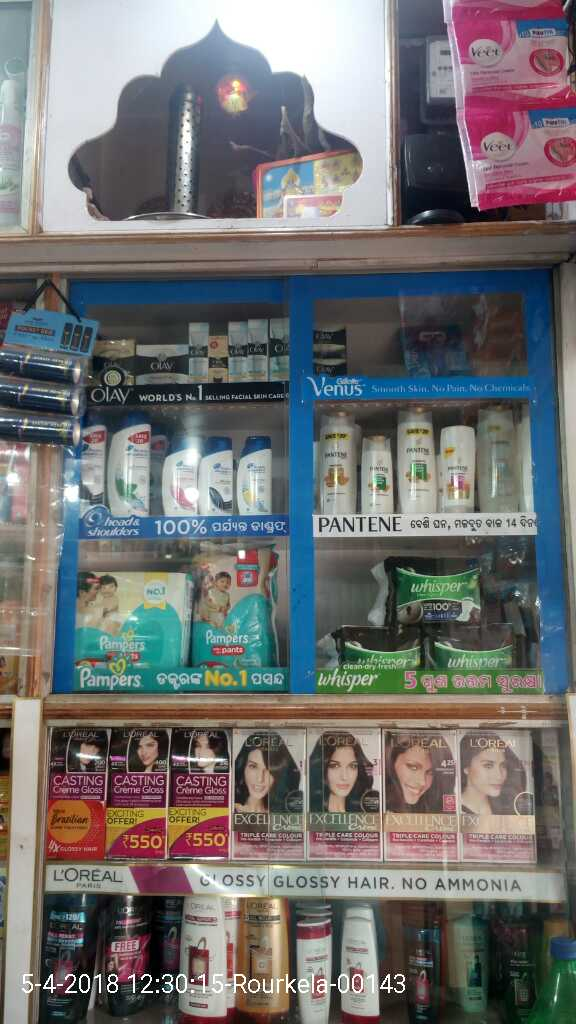venus: (403, 324, 469, 370)
